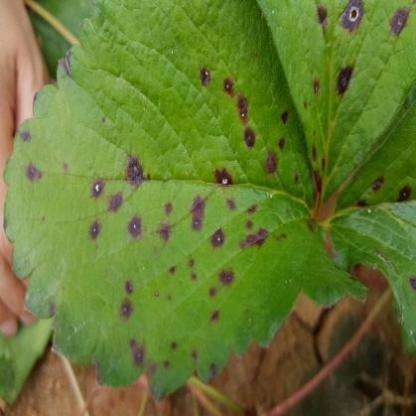Strawberry_Leaf_Spot: (2, 0, 373, 406), (255, 0, 415, 205), (319, 85, 415, 355)
